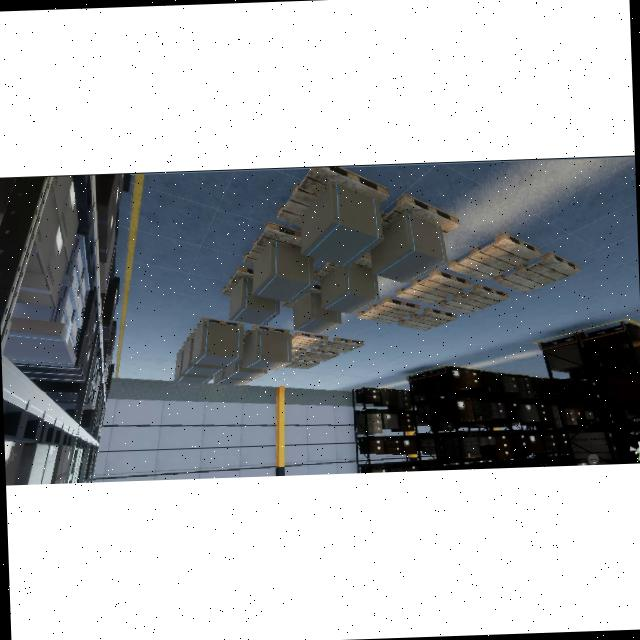wooden_pallet: (276, 165, 389, 227), (447, 230, 541, 281), (494, 251, 581, 294), (379, 193, 460, 236), (395, 268, 471, 305), (242, 220, 301, 264), (437, 284, 509, 315), (357, 297, 420, 324), (397, 307, 457, 331), (221, 266, 253, 297), (192, 319, 243, 334), (243, 324, 290, 340), (319, 337, 363, 354), (291, 332, 328, 349), (298, 348, 339, 363), (283, 358, 320, 369), (292, 347, 307, 358)
